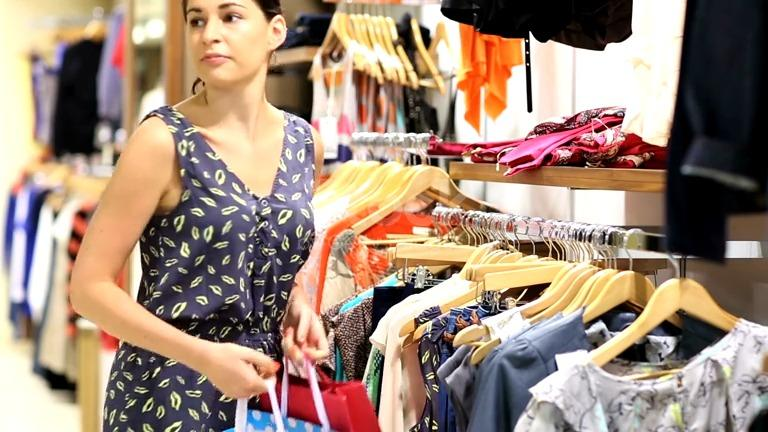Shoplifting: (90, 0, 388, 432)
